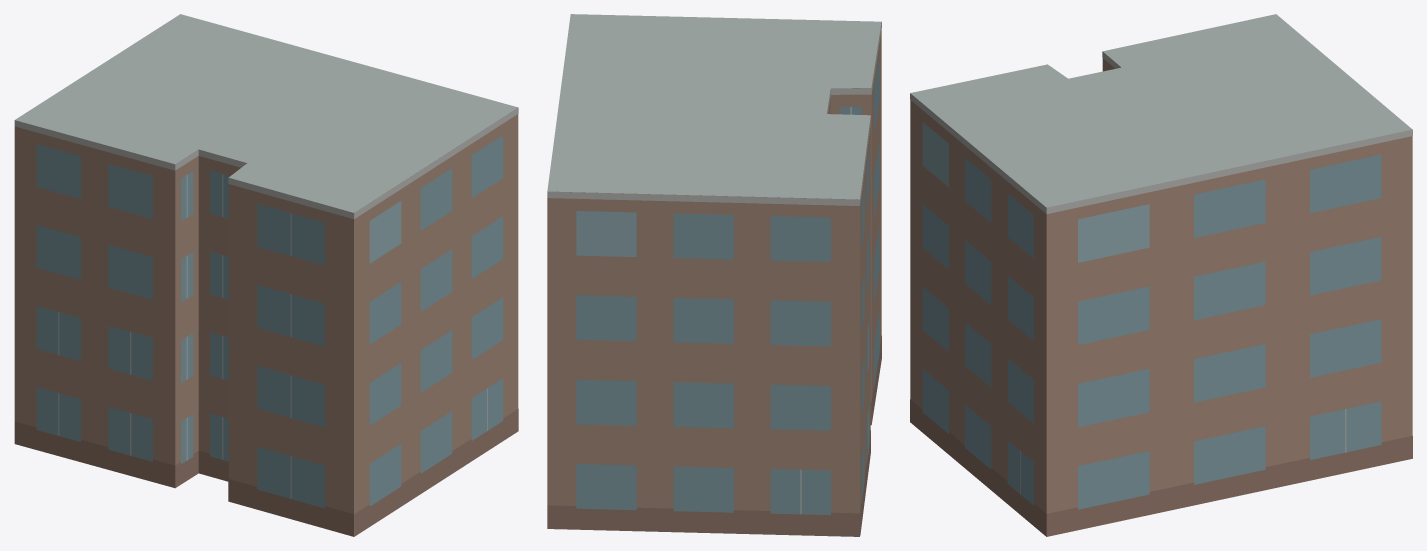
The model's file is survey-upis-33025688.glb.
3 renders of one model, left to right at view 1: azimuth 30°, elevation 25°; view 2: azimuth 150°, elevation 25°; view 3: azimuth 270°, elevation 25°, orthographic. The views are drawn at different scales.
Parts seen in each view (by area): view 1: survey-upis-33025688.tmp; view 2: survey-upis-33025688.tmp; view 3: survey-upis-33025688.tmp.
Boxes of the visible parts, x1=… form: survey-upis-33025688.tmp: x1=14, y1=14, x2=518, y2=536; survey-upis-33025688.tmp: x1=547, y1=14, x2=881, y2=536; survey-upis-33025688.tmp: x1=910, y1=14, x2=1412, y2=536.
Bounding box in the file's own units: 15.79 × 12.5 × 17.31.
